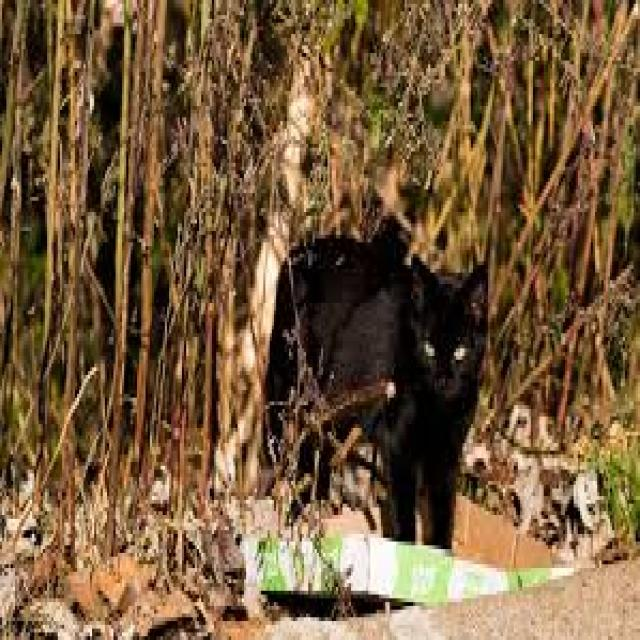cat: (266, 219, 485, 547)
